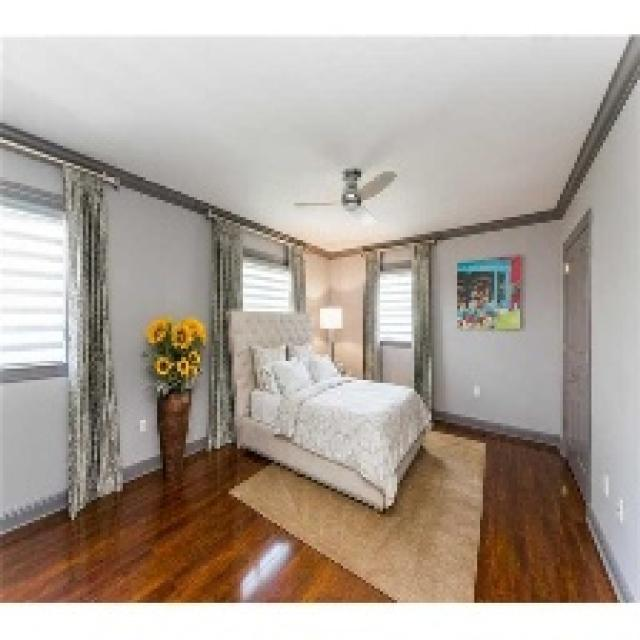Bed: (226, 308, 431, 512)
